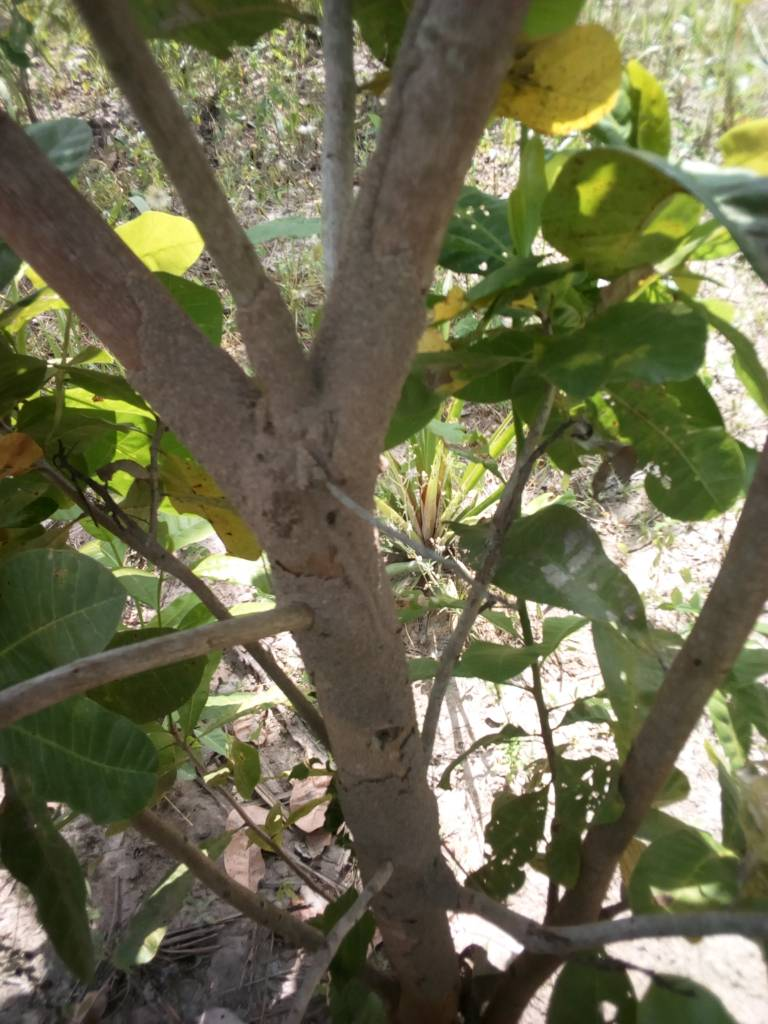Anthracnose: (511, 19, 625, 133)
